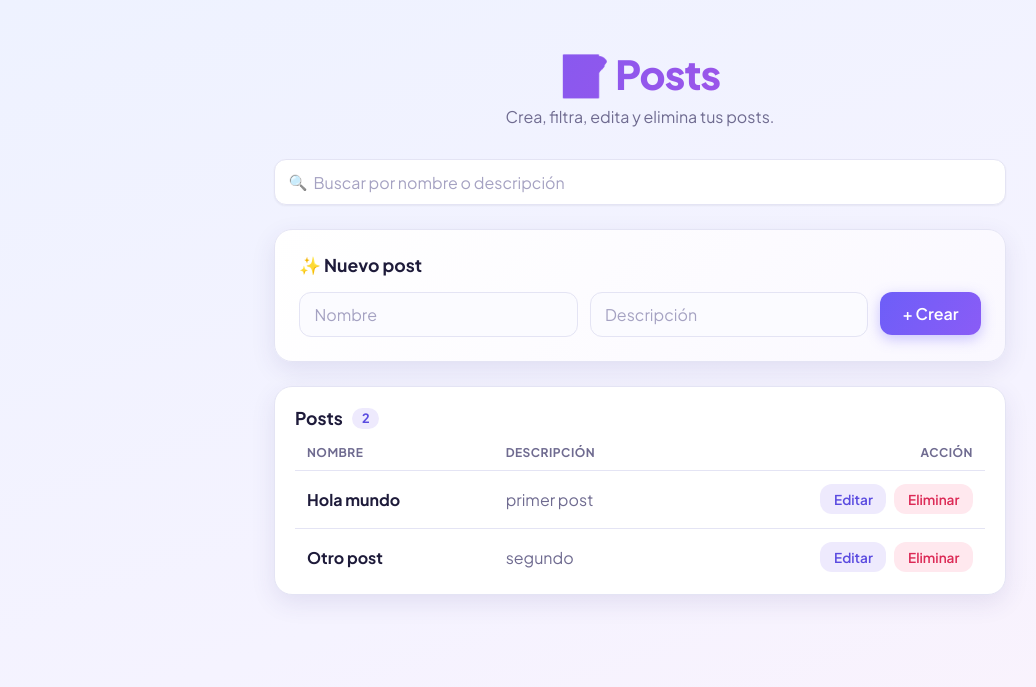
Test: App › creates a post via the form and shows it in the list
The width and height of the screenshot is (1036, 687).
Expected: the text "Hola mundo" is shown, [295, 470, 494, 529]
In the field labelled "Nombre": (438, 314) [299, 292, 578, 337], type "Nuevo"
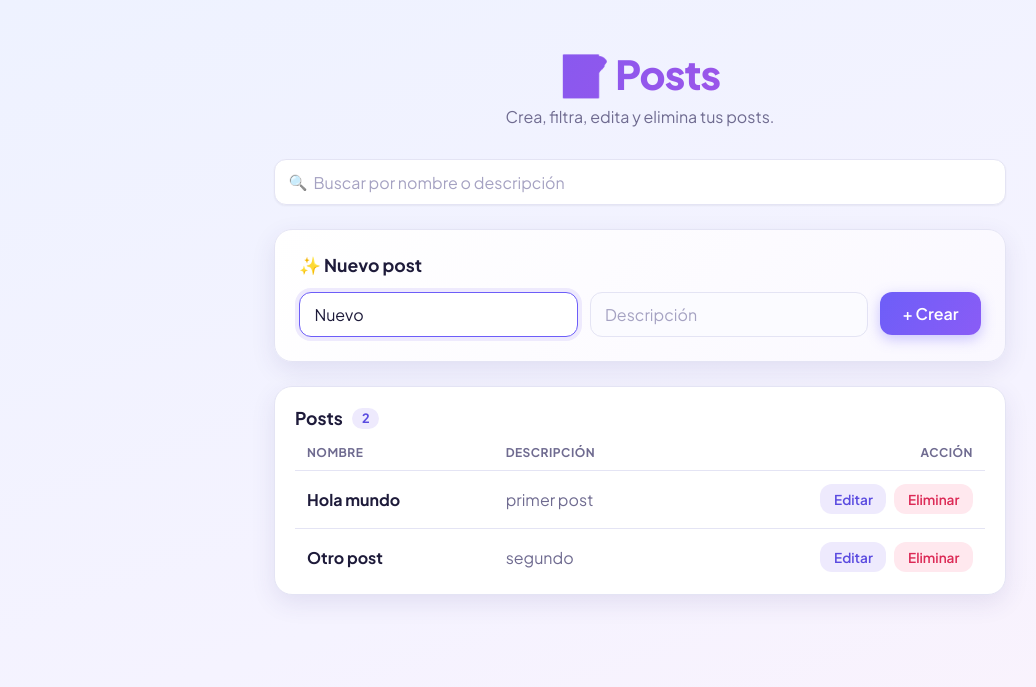
In the field labelled "Descripción": (729, 314) [590, 292, 868, 337], type "creado"
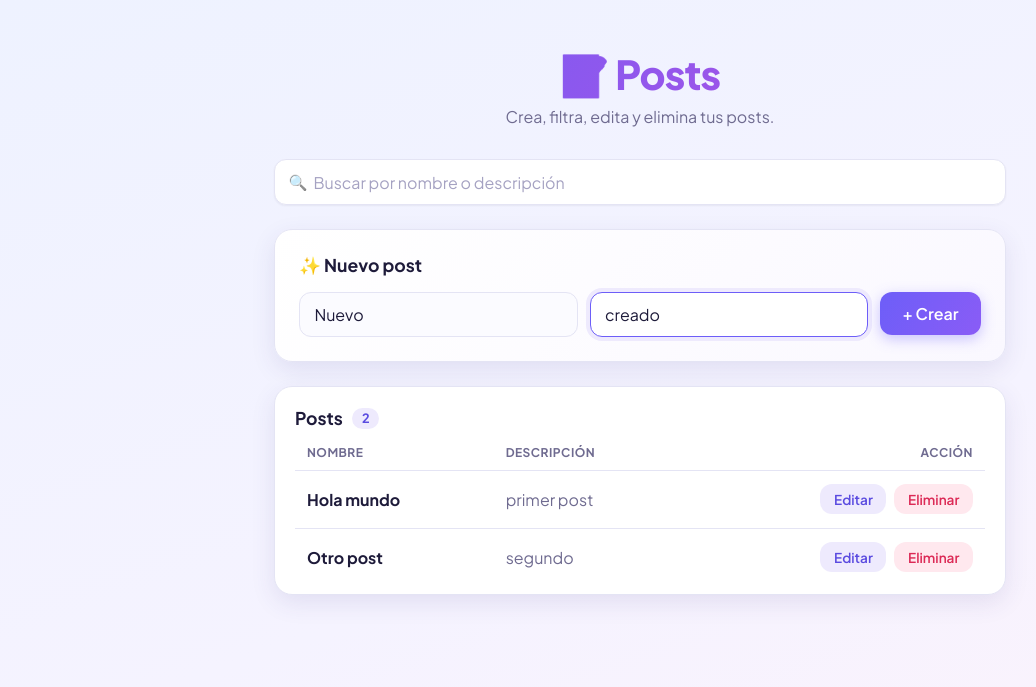
Click the button "+ Crear": (931, 314) [880, 292, 981, 335]
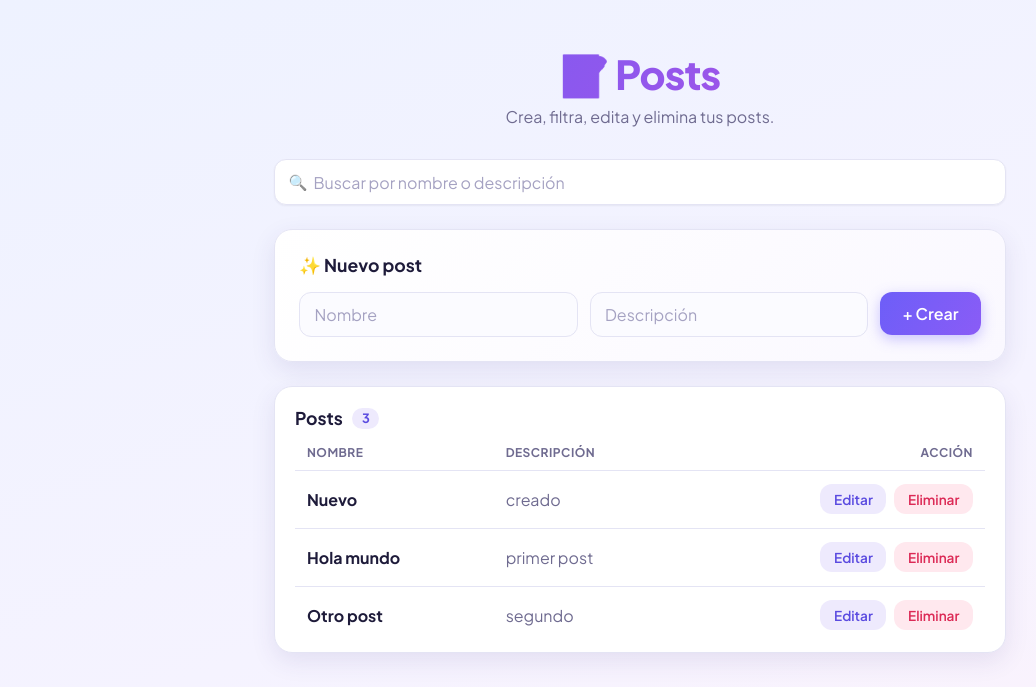
Result: the text "Nuevo" is shown at [295, 470, 494, 529]
